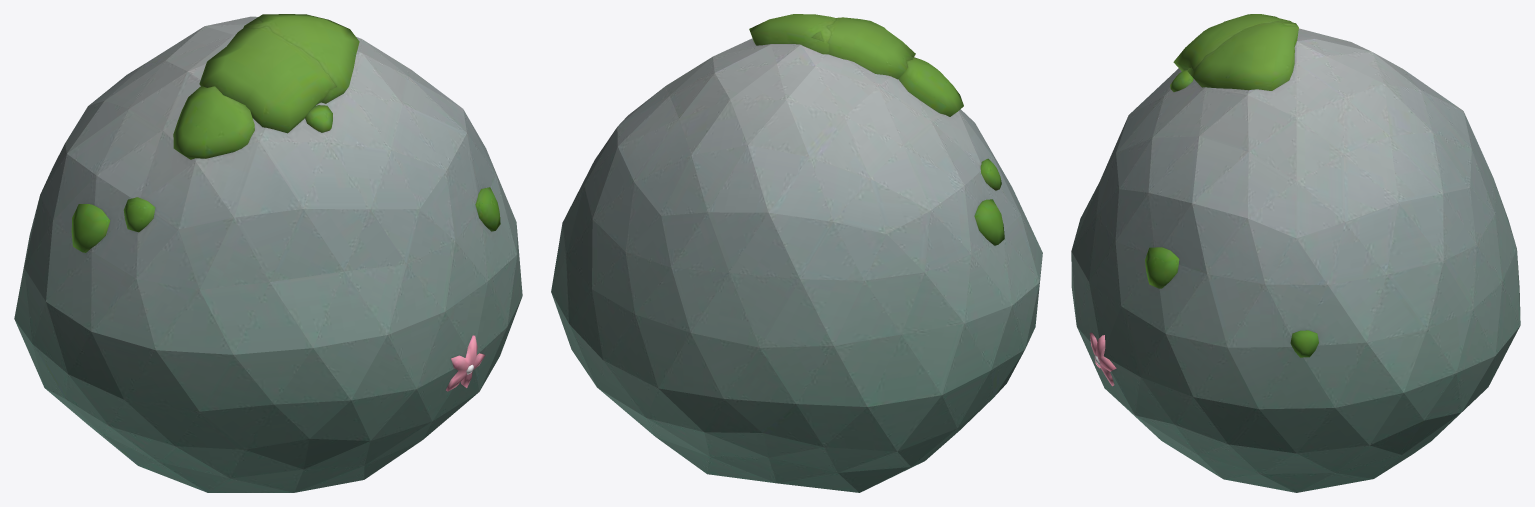
File: rock_grey_3_high.glb
3 views of the same model, side by side, from view 1: azimuth 30°, elevation 25°; view 2: azimuth 150°, elevation 25°; view 3: azimuth 270°, elevation 25° (orthographic). The views are drawn at different scales.
Parts seen in each view (by area): view 1: rock_grey_3; view 2: rock_grey_3; view 3: rock_grey_3.
Part boxes in pixels (x1=…): rock_grey_3: x1=14, y1=14, x2=522, y2=492; rock_grey_3: x1=551, y1=14, x2=1042, y2=492; rock_grey_3: x1=1071, y1=14, x2=1520, y2=492.
Bounding box in the file's own units: 0.6362 × 0.6114 × 0.5823.
1 material, 1 textured.
